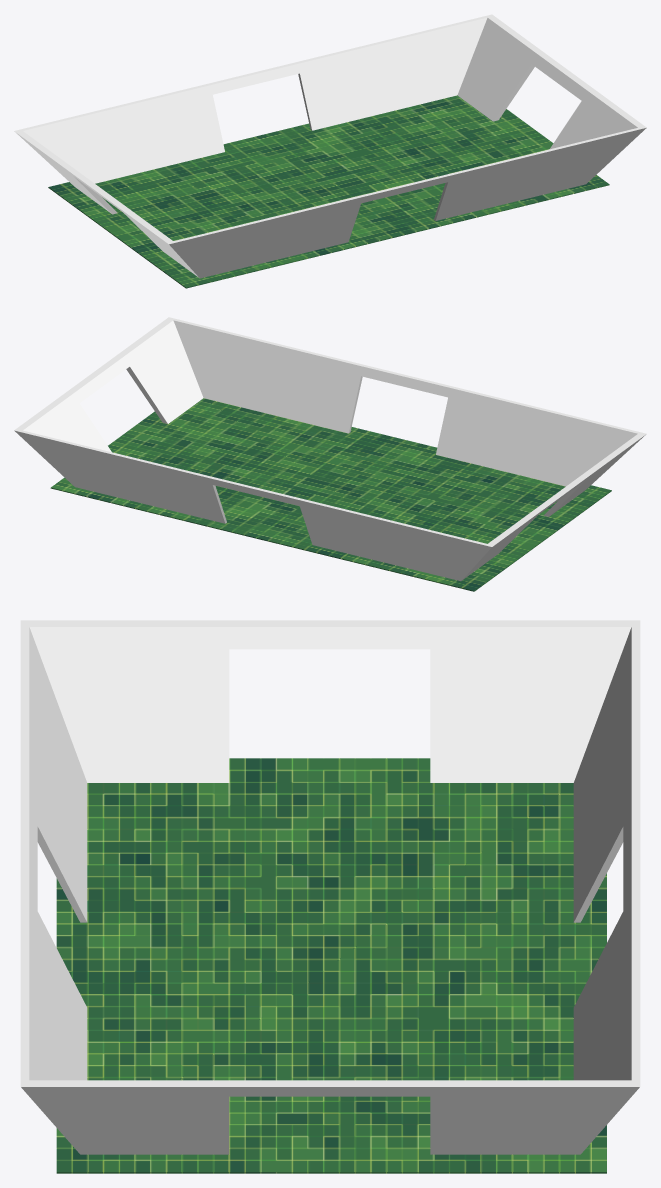
3 renders of one model, top to bottom at view 1: azimuth 30°, elevation 25°; view 2: azimuth 150°, elevation 25°; view 3: azimuth 270°, elevation 25°, orthographic. The views are drawn at different scales.
Parts seen in each view (by area): view 1: Room2, Piso1; view 2: Room2, Piso1; view 3: Piso1, Room2.
Boxes of the visible parts, x1,y1,x2,y2 form: Room2: [14, 14, 646, 278]; Piso1: [48, 95, 609, 288]; Room2: [14, 317, 646, 581]; Piso1: [50, 398, 611, 591]; Piso1: [56, 758, 606, 1173]; Room2: [20, 620, 640, 1154].
Bounding box in the file's own units: 4100 × 500 × 2300.
